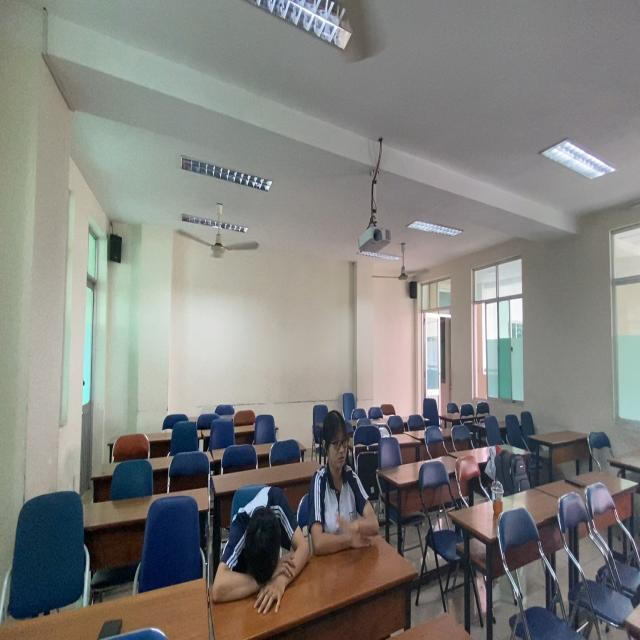sleep: (200, 482, 324, 628)
